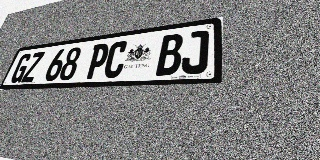6: (43, 48, 69, 81)
8: (57, 46, 83, 81)
B: (155, 33, 184, 76)
C: (102, 40, 129, 78)
G: (9, 53, 33, 83)
J: (180, 30, 209, 74)
P: (84, 43, 111, 79)
Z: (21, 51, 45, 83)
